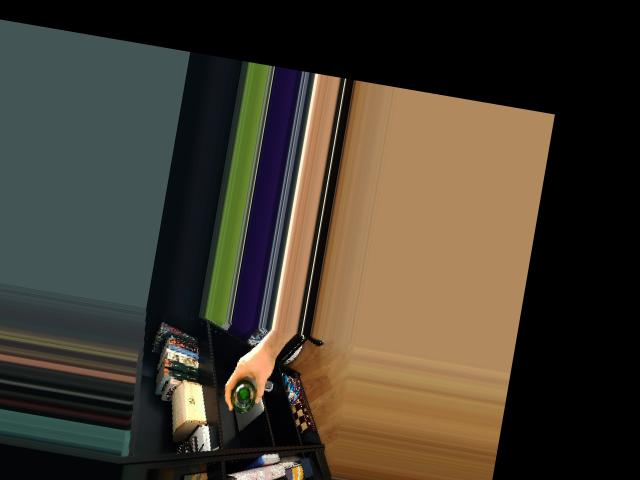beer: (229, 378, 259, 412)
